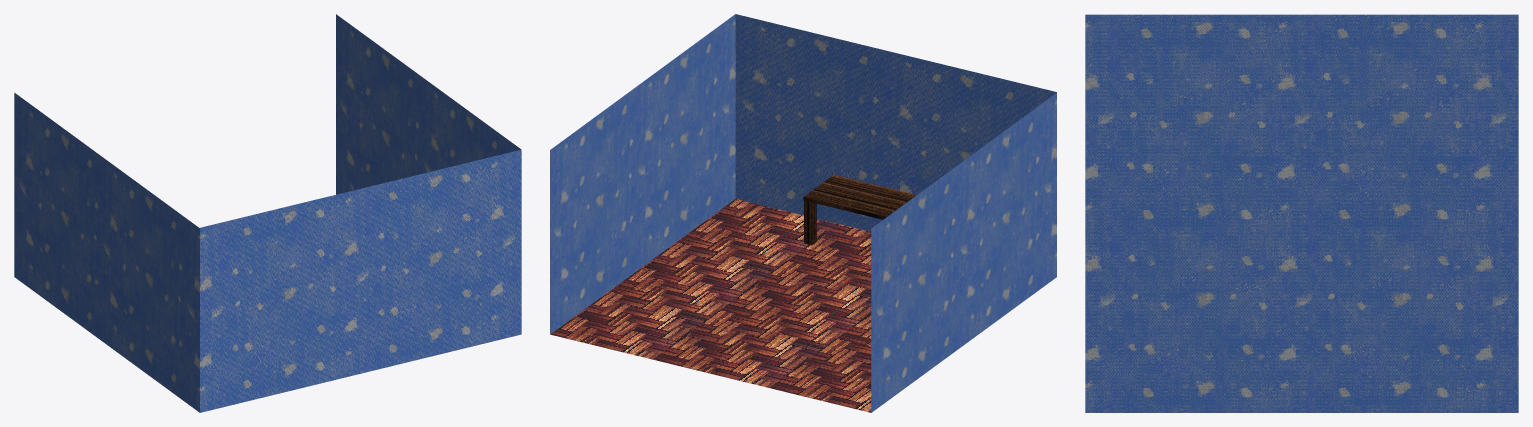
The model's file is cutscene_room.glb.
3 views of the same model, side by side, from view 1: azimuth 30°, elevation 25°; view 2: azimuth 150°, elevation 25°; view 3: azimuth 270°, elevation 25° (orthographic). The views are drawn at different scales.
Visible parts, largest first — view 1: room; view 2: room, table; view 3: room.
Part boxes in pixels (x1,y1,x2,y2): room: [14, 14, 521, 412]; room: [550, 14, 1056, 412]; table: [803, 174, 916, 245]; room: [1085, 14, 1518, 412].
Bounding box in the file's own units: 9.21 × 5.07 × 9.21.
Materials: 3 (3 with a texture image).
